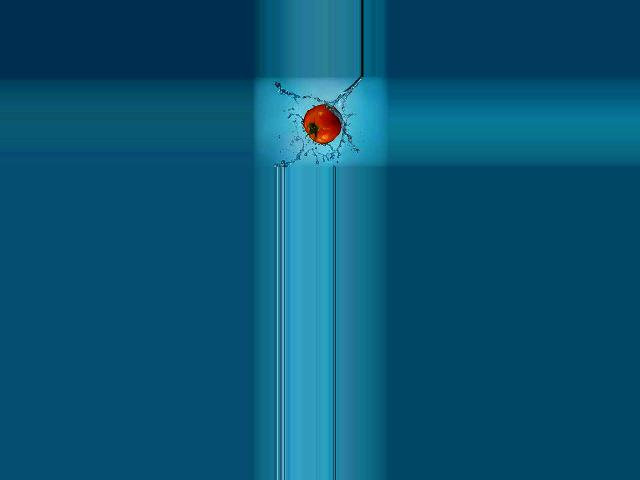tomato: (303, 104, 341, 144)
